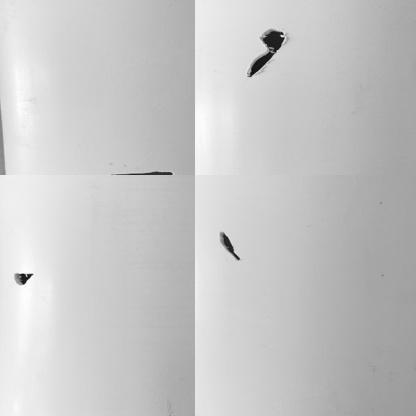fengxi: (110, 171, 177, 179)
kongdong: (245, 26, 289, 82), (215, 226, 246, 259), (11, 272, 34, 287)
